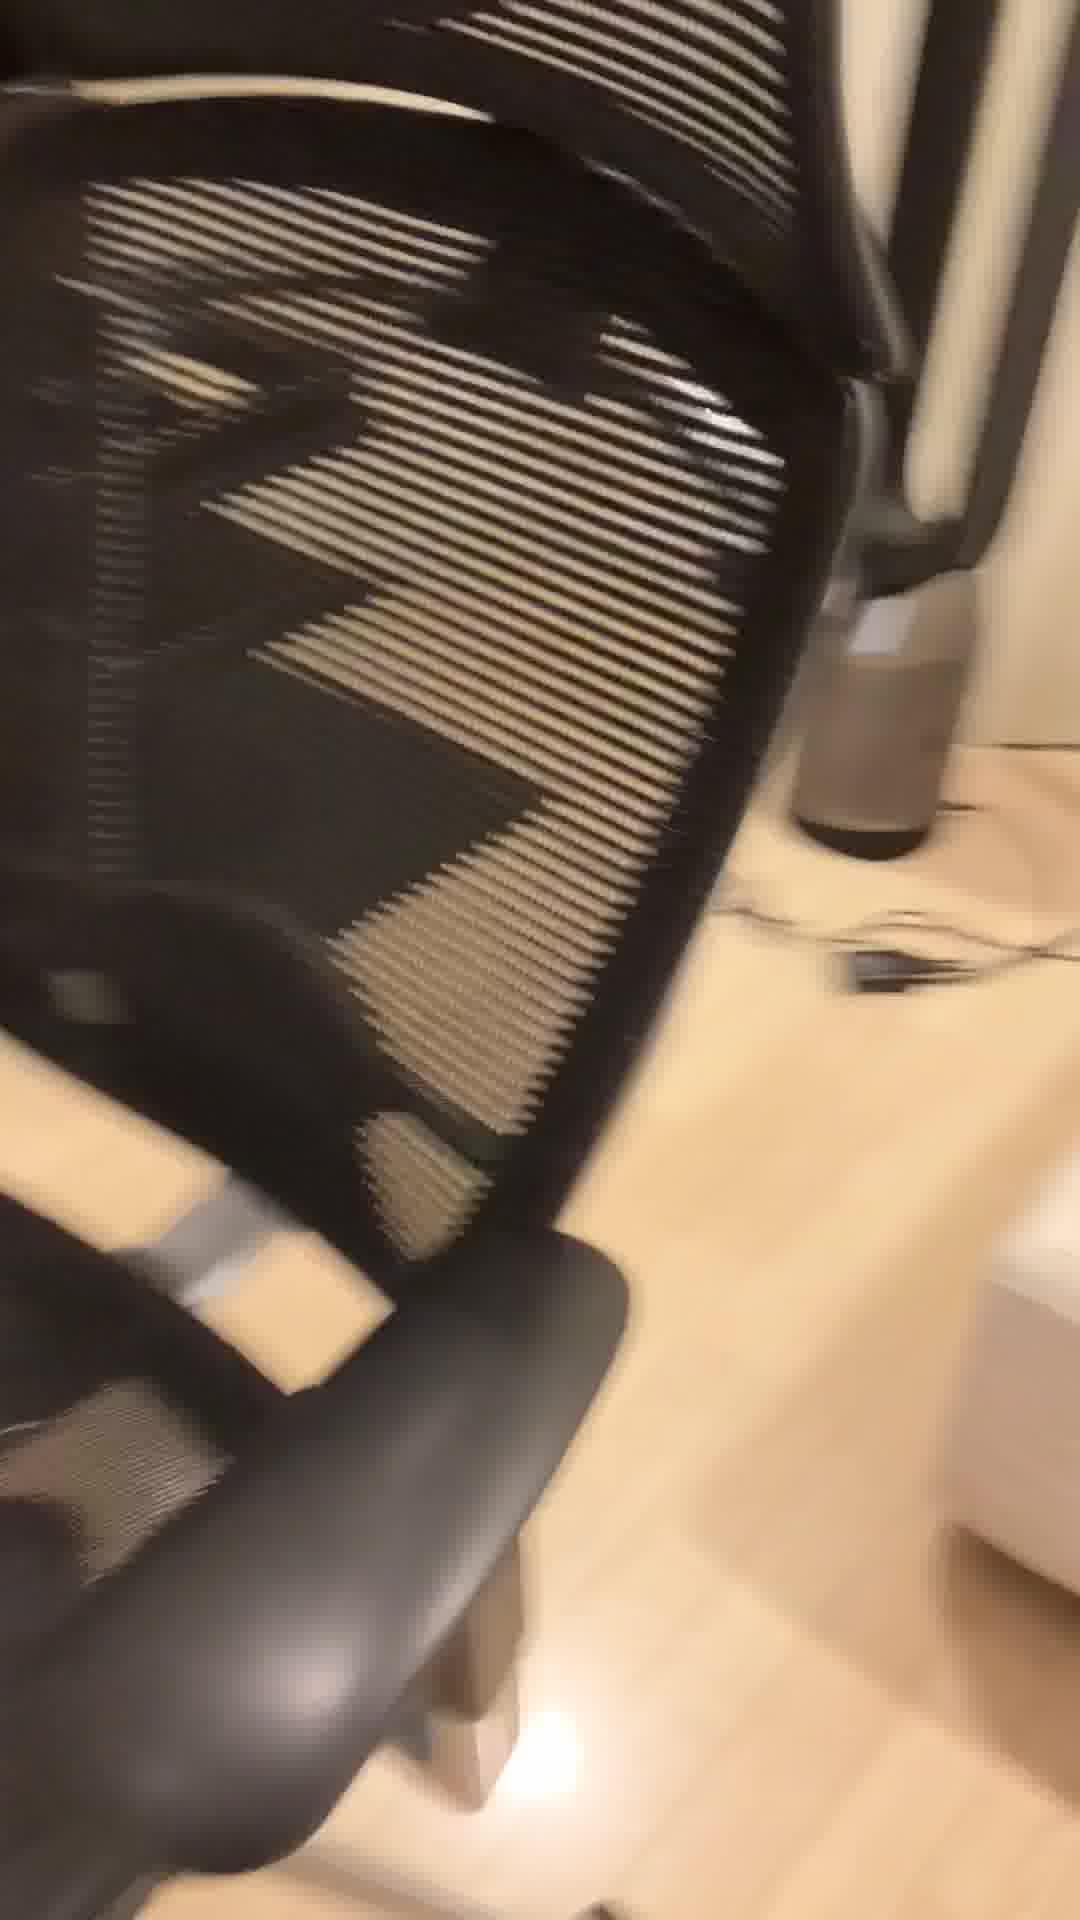okamura-contessa: (0, 0, 906, 1920)
